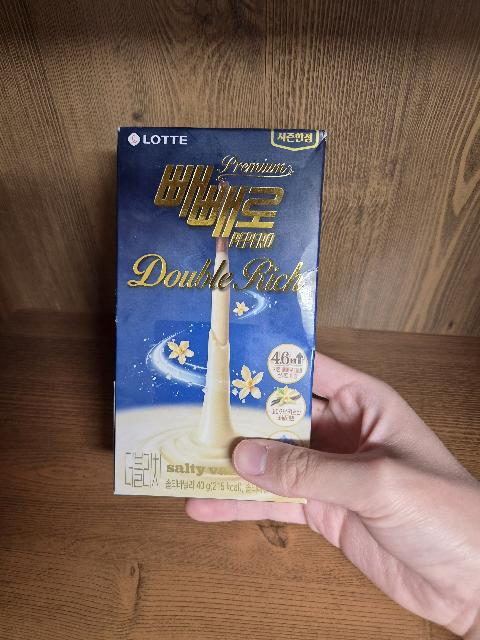pepero: (113, 126, 327, 504)
